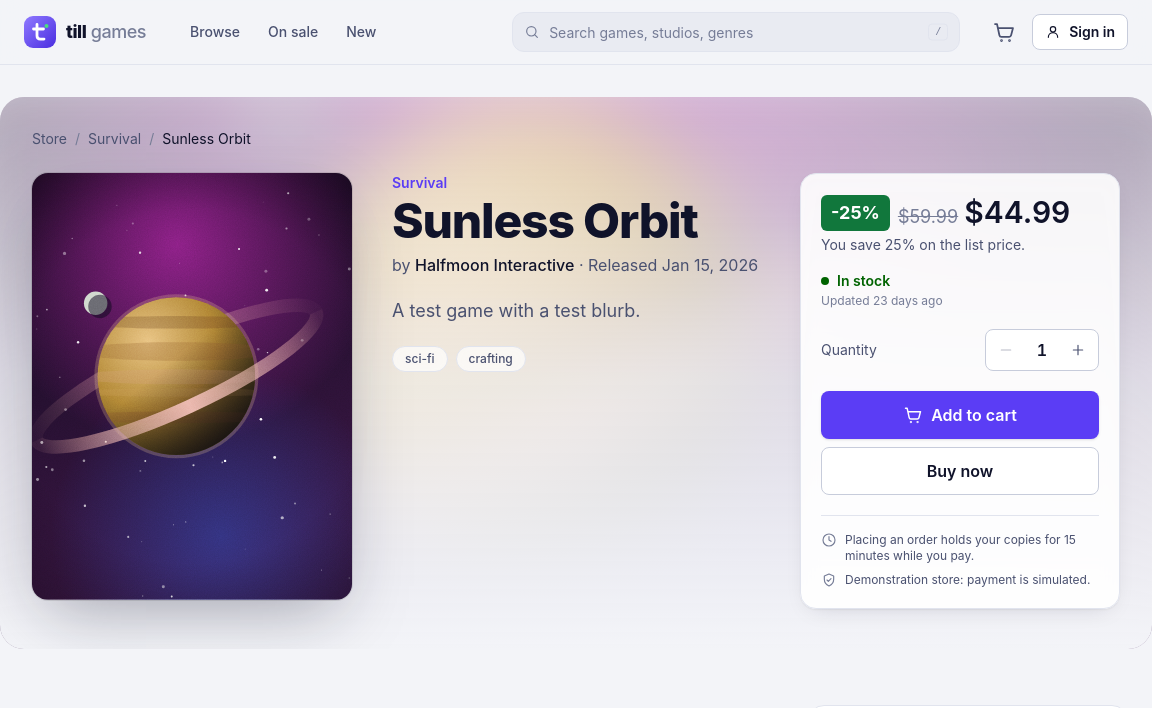
Test: a game’s page › shows the game, and adding it fills the cart
This screenshot has width=1152, height=708.
Expected: the heading "Sunless Orbit" is shown, x1=392 y1=191 x2=698 y2=250
Expected: the text "In stock" is shown, x1=821 y1=272 x2=890 y2=289
Click the button named "More: copies of Sunless Orbit".
click(1078, 350)  # box x1=1058 y1=330 x2=1098 y2=370
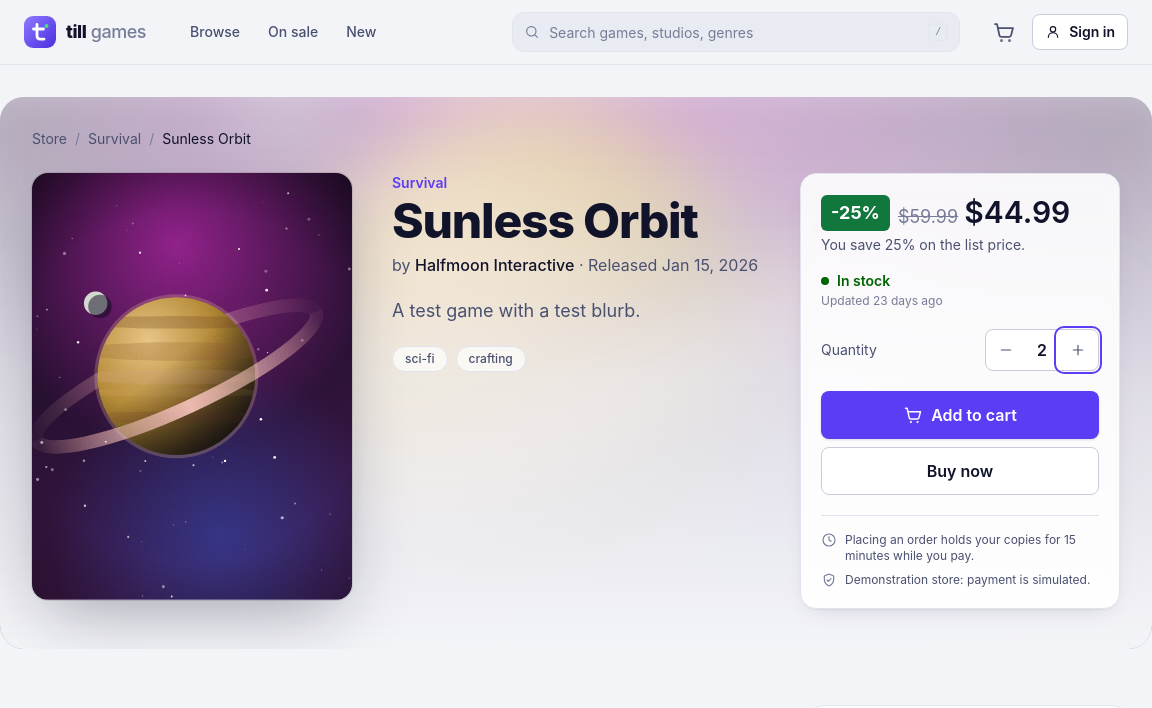
Click the button "Add to cart".
click(960, 415)  # box x1=821 y1=391 x2=1099 y2=439
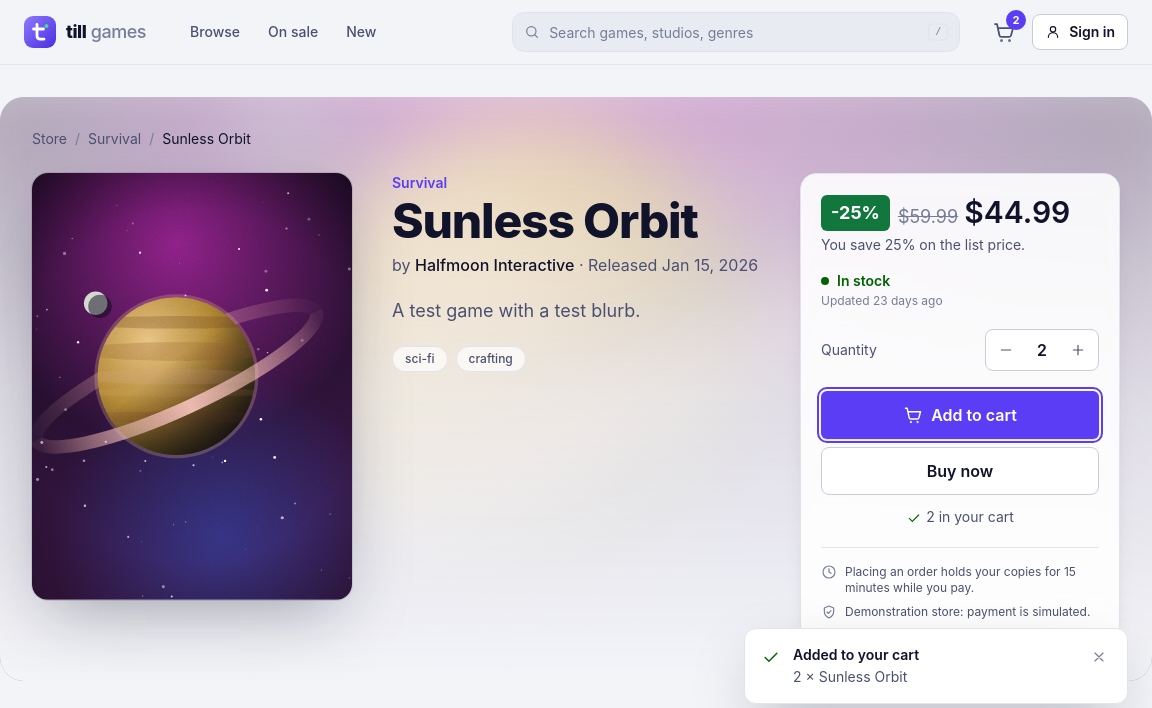
Expected: the text "Added to your cart" is shown, x1=793 y1=646 x2=919 y2=663
Expected: the button named "Cart, 2 items" is shown, x1=984 y1=12 x2=1024 y2=52
Expected: the text "2 in your cart" is shown, x1=906 y1=508 x2=1014 y2=526
